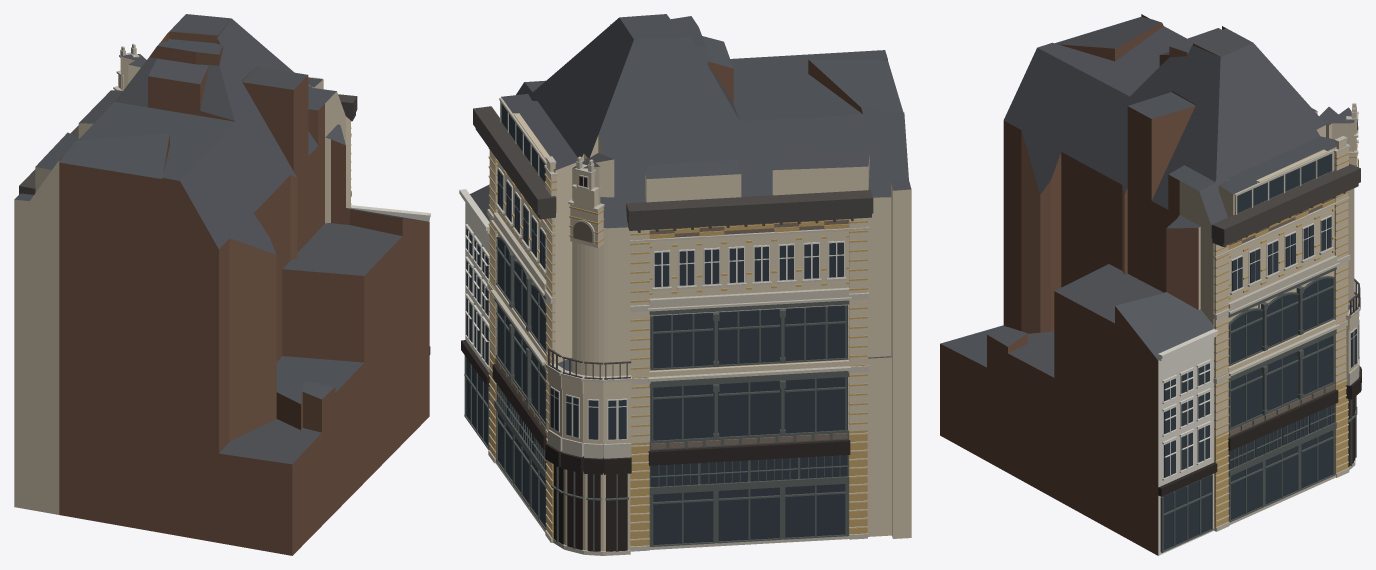
Rendered from leidsestraat-1.glb.
3 views of the same model, side by side, from view 1: azimuth 30°, elevation 25°; view 2: azimuth 150°, elevation 25°; view 3: azimuth 270°, elevation 25° (orthographic). The views are drawn at different scales.
Visible parts, largest first — view 1: leidsestraat-1; view 2: leidsestraat-1; view 3: leidsestraat-1.
Part boxes in pixels (x1=…): leidsestraat-1: x1=14, y1=14, x2=430, y2=555; leidsestraat-1: x1=459, y1=14, x2=911, y2=555; leidsestraat-1: x1=940, y1=14, x2=1361, y2=555.
Bounding box in the file's own units: 31.29 × 30.51 × 27.93.
